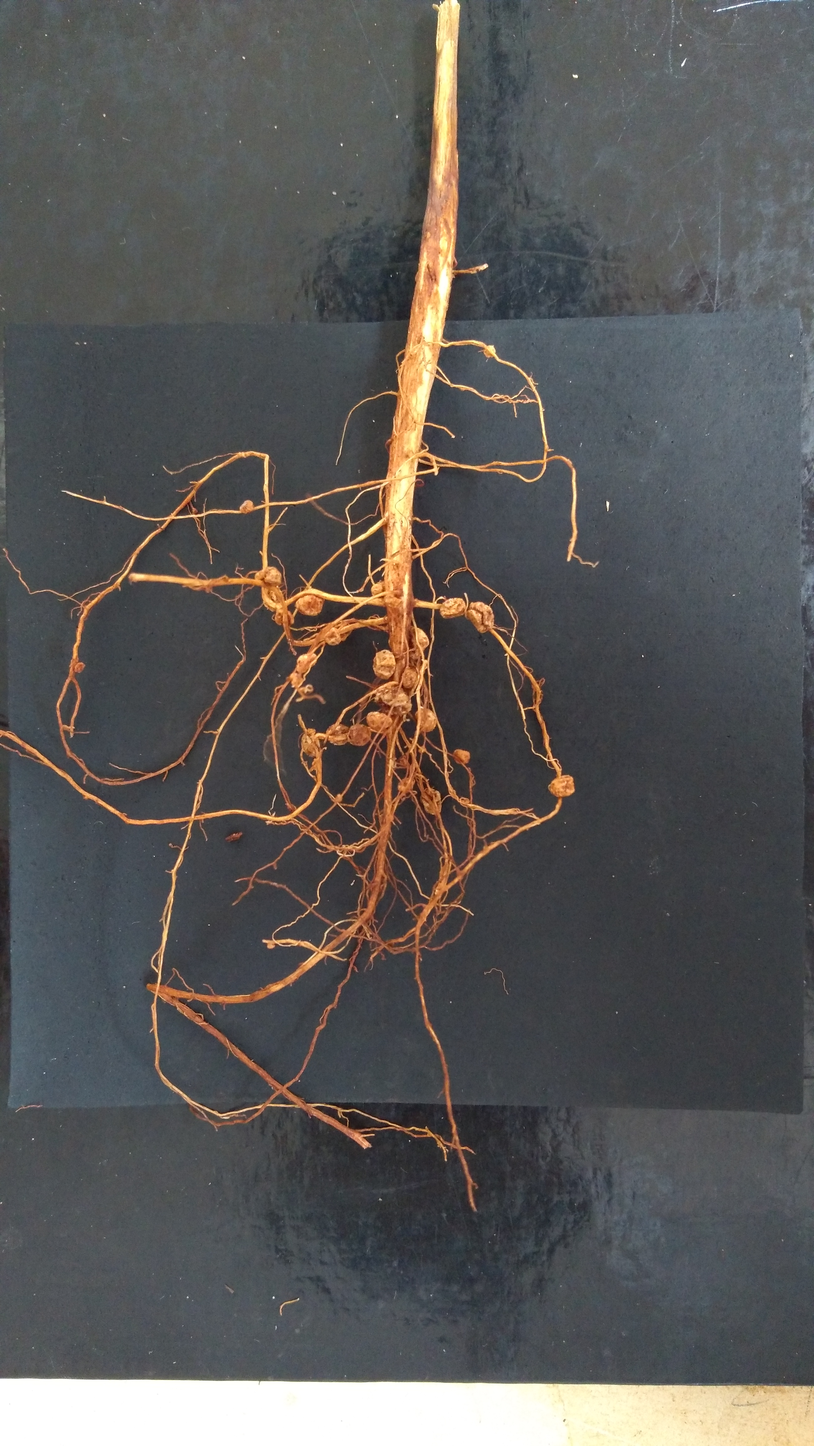nodule: (374, 686, 412, 715), (295, 588, 325, 616), (467, 602, 494, 633), (409, 625, 429, 660), (373, 650, 396, 680), (548, 775, 575, 797), (439, 598, 466, 619), (421, 788, 441, 815), (326, 723, 350, 745), (347, 724, 371, 746), (366, 711, 392, 731), (415, 708, 436, 732), (254, 567, 282, 585), (301, 734, 320, 758), (263, 584, 278, 612), (296, 653, 317, 673), (402, 666, 419, 689), (324, 627, 341, 646), (274, 609, 294, 625), (453, 749, 470, 765), (340, 621, 352, 642), (398, 777, 415, 791), (371, 582, 385, 599), (290, 672, 304, 688), (384, 595, 401, 608), (367, 616, 381, 630), (240, 500, 253, 514), (483, 346, 495, 358), (74, 662, 85, 673), (397, 755, 407, 767), (287, 804, 297, 813), (421, 659, 428, 670), (334, 794, 342, 803), (305, 684, 313, 692), (418, 746, 426, 753), (307, 729, 316, 735), (267, 943, 275, 949), (461, 799, 469, 804), (545, 444, 549, 452), (193, 508, 198, 514), (223, 576, 228, 582)
